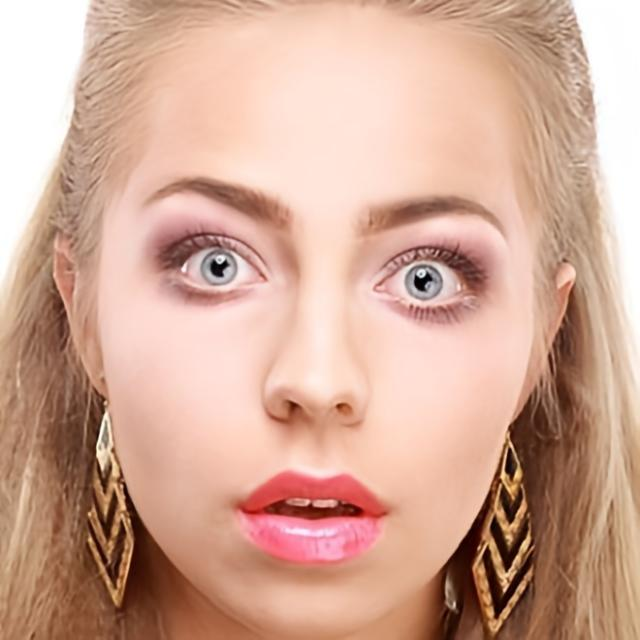surprise: (99, 14, 535, 640)
